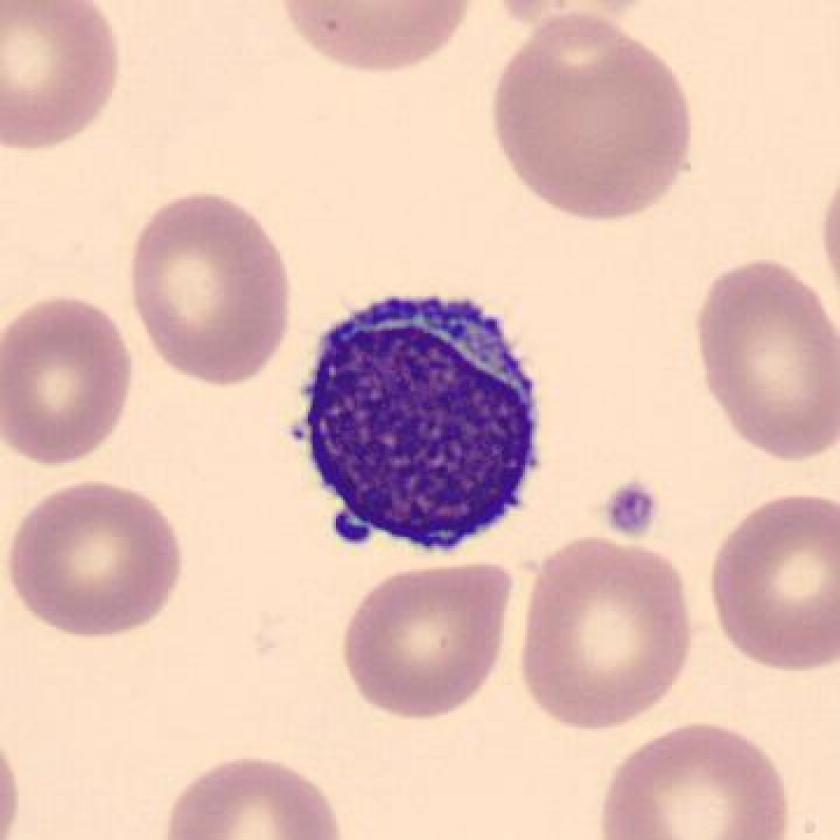lymphocyte: (281, 281, 556, 575)
platelets: (599, 473, 667, 540)
